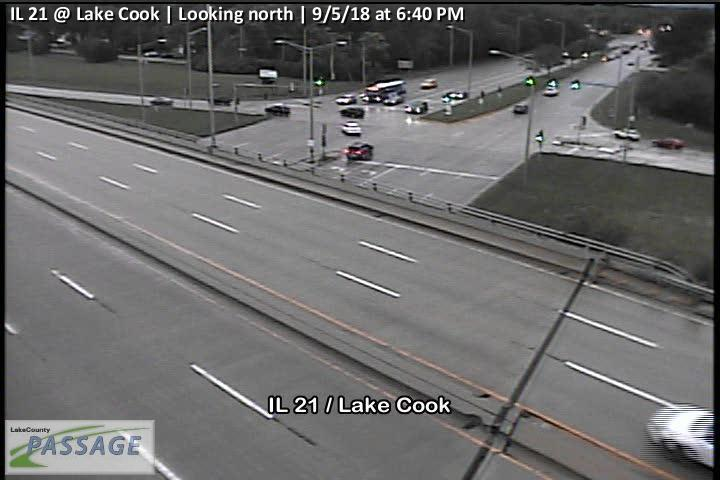SUV: (344, 140, 374, 160), (613, 128, 640, 141), (404, 99, 429, 113), (340, 106, 365, 118)
Sedan: (647, 404, 715, 466), (651, 137, 687, 149), (264, 103, 291, 115), (342, 122, 362, 135), (335, 94, 357, 104)
